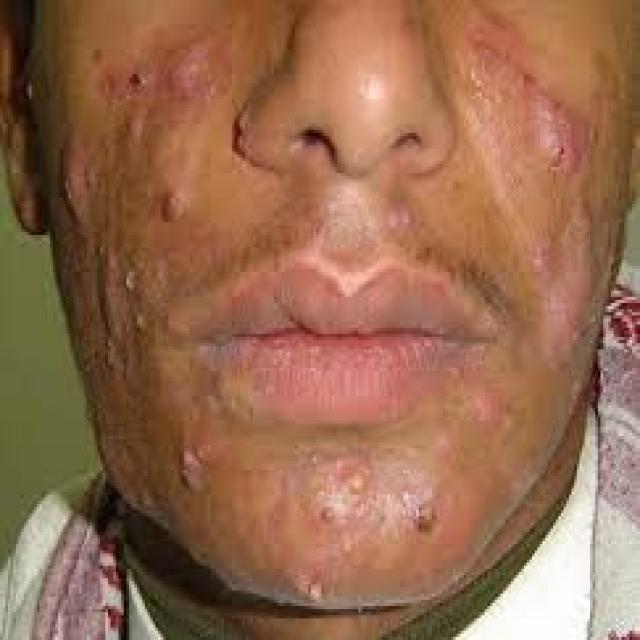Acne: (537, 93, 585, 181), (156, 42, 212, 108), (53, 128, 90, 208), (270, 561, 340, 603), (176, 435, 215, 495), (94, 63, 156, 100), (409, 496, 447, 542), (334, 456, 375, 498), (469, 382, 505, 427), (522, 236, 555, 284), (156, 186, 192, 227), (311, 497, 343, 533), (385, 204, 417, 232)
